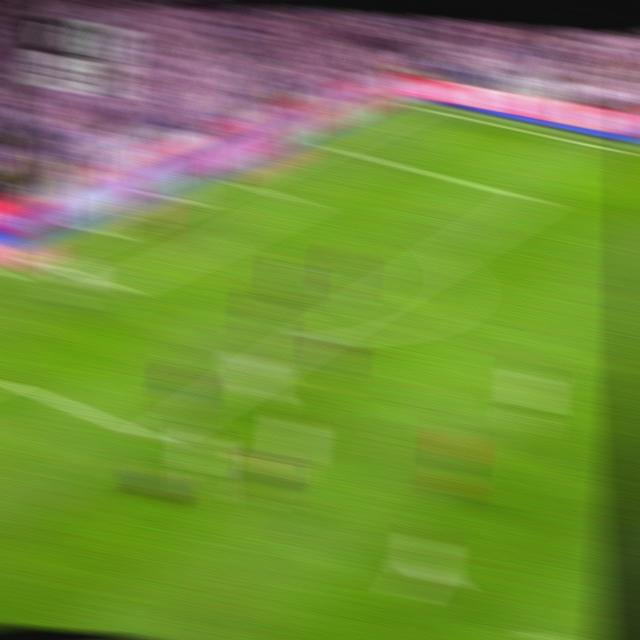bigarea_bottom_inner: (137, 423, 168, 452)
bigarea_top_inner: (521, 189, 550, 211)
bigarea_top_outter: (312, 135, 339, 152)
bottom_arc_area_intersection: (300, 324, 330, 349)
corner: (402, 100, 430, 112)
smallarea_top_inner: (289, 193, 315, 212)
top_arc_area_intersection: (431, 244, 461, 267)
